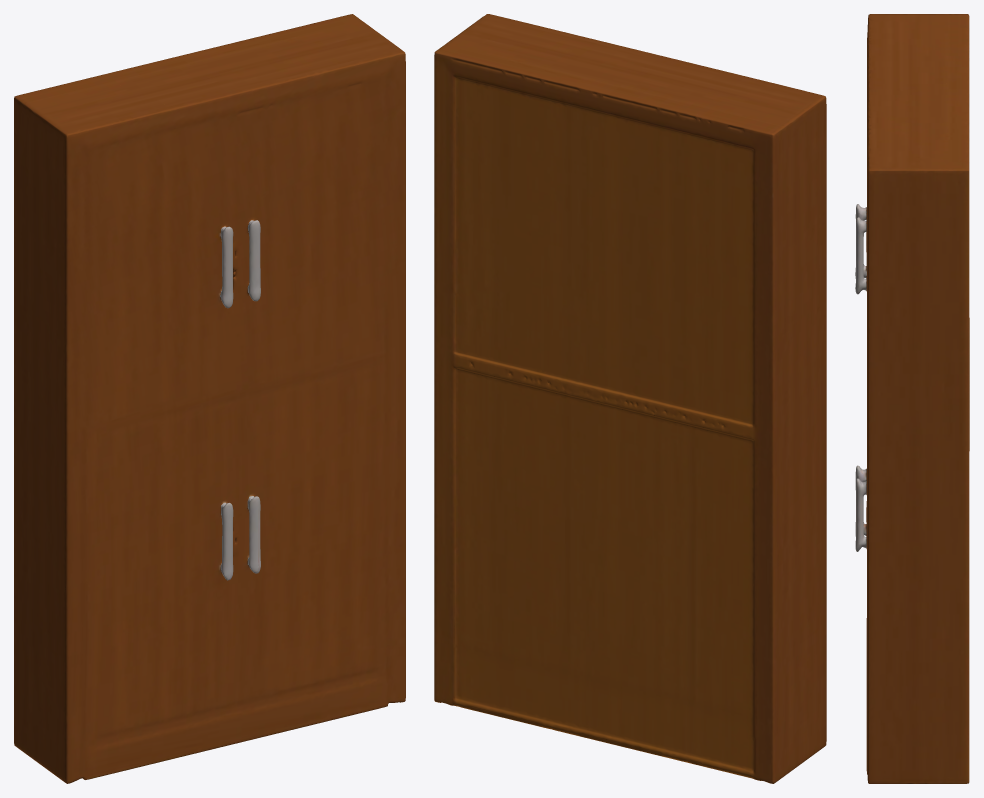
Rendered from floor-lamp.glb.
3 renders of one model, left to right at view 1: azimuth 30°, elevation 25°; view 2: azimuth 150°, elevation 25°; view 3: azimuth 270°, elevation 25°, orthographic. The views are drawn at different scales.
Visible parts, largest first — view 1: world; view 2: world; view 3: world.
Boxes of the visible parts, box(x1,y1,x2,y2) form: world: box(14, 14, 405, 783); world: box(434, 14, 826, 783); world: box(855, 14, 969, 783).
Bounding box in the file's own units: 0.5494 × 1 × 0.169.
Materials: 1 (1 with a texture image).
